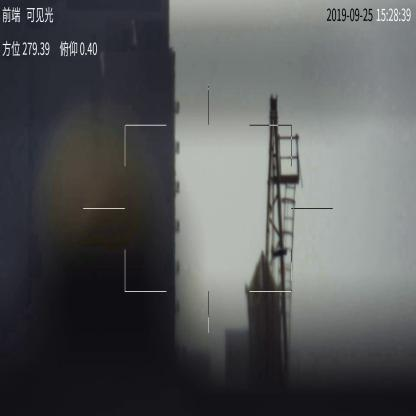uav: (271, 246, 286, 258)
